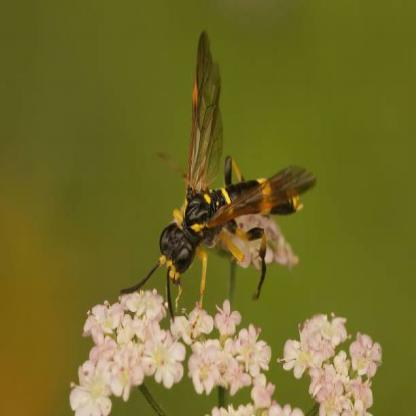sawfly: (124, 26, 316, 327)
